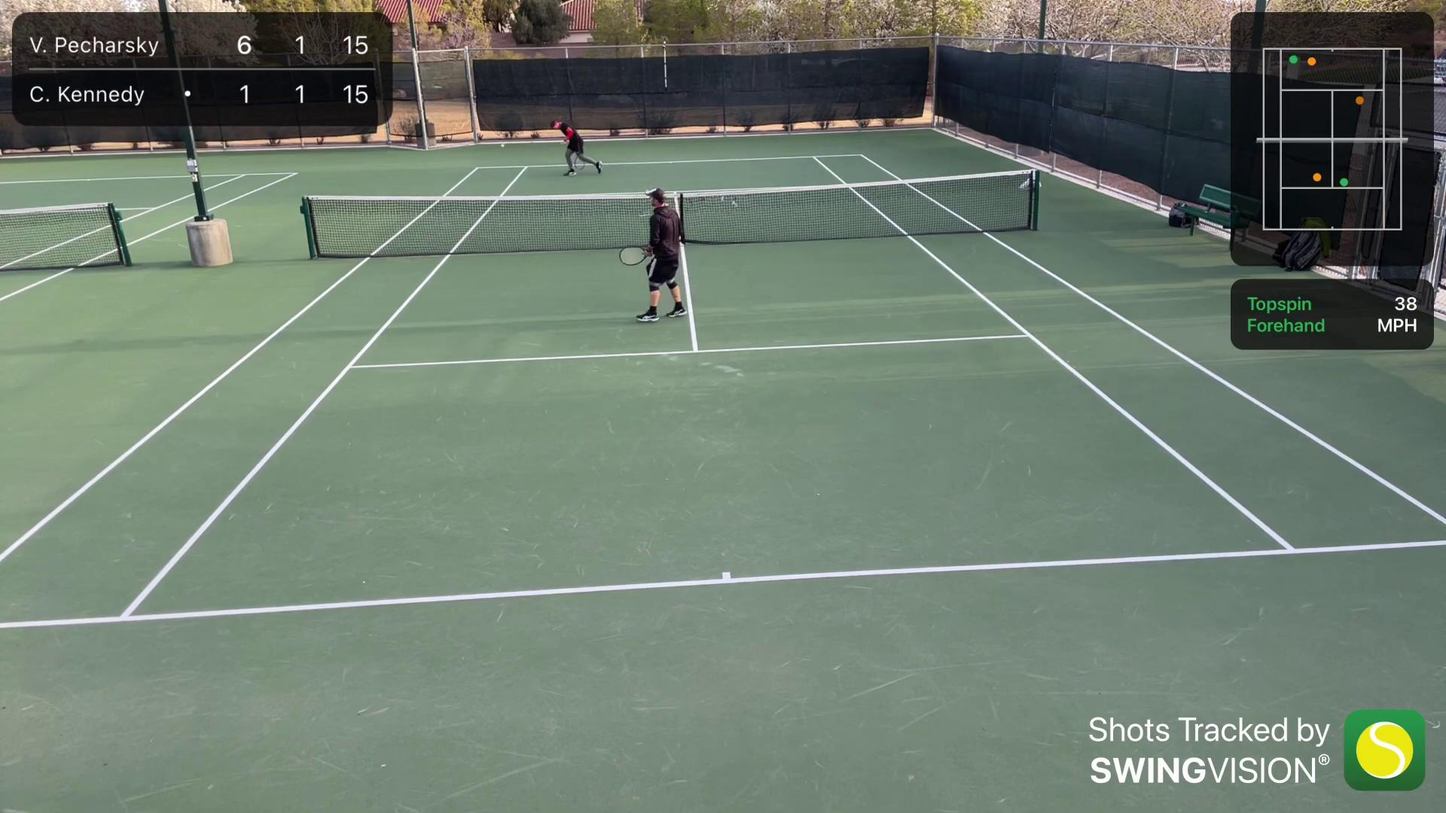ball: (499, 141, 507, 149)
